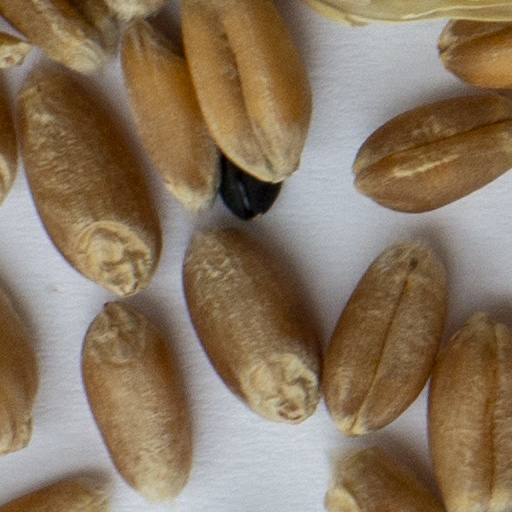Fallopia-Convolvulus-poly: (221, 160, 279, 219)
Wheat-grain-poly: (431, 313, 511, 511)
